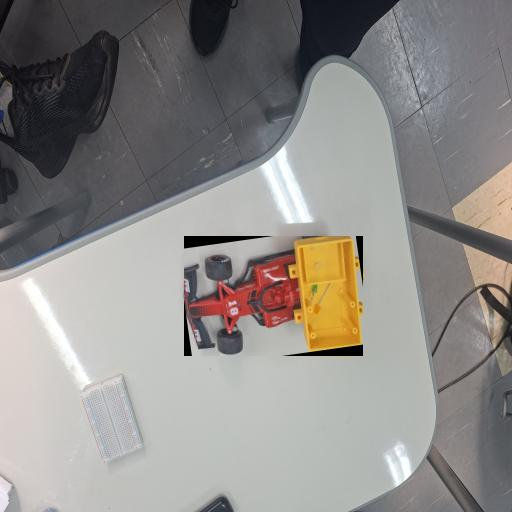carro: (185, 237, 362, 355)
